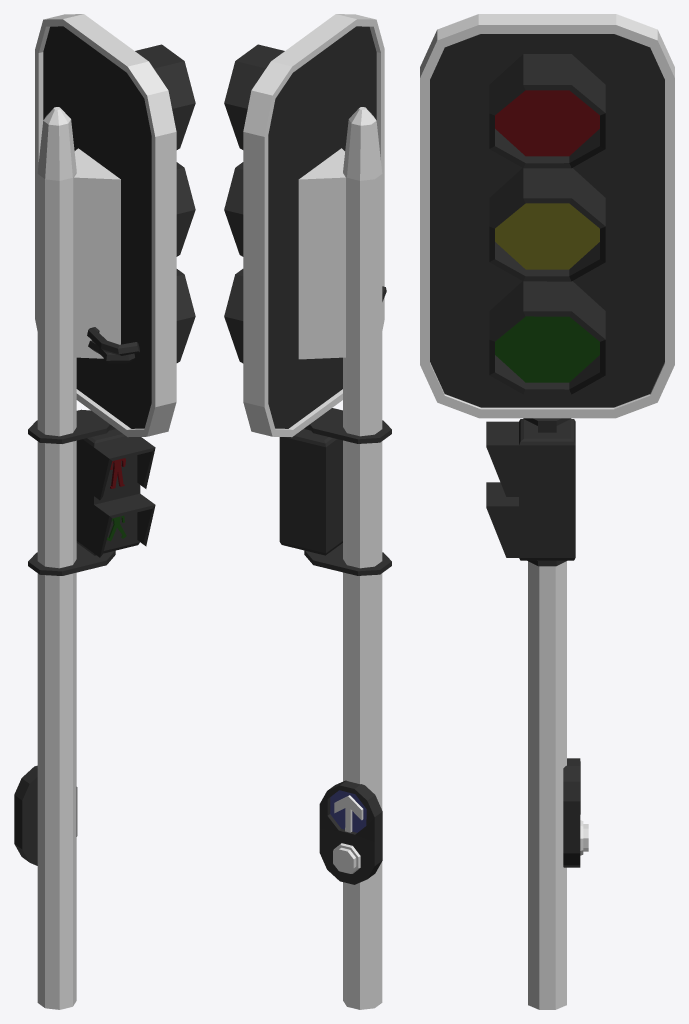
File: TrafficRight.fbx
3 views of the same model, side by side, from view 1: azimuth 30°, elevation 25°; view 2: azimuth 150°, elevation 25°; view 3: azimuth 270°, elevation 25° (orthographic). The views are drawn at different scales.
Parts seen in each view (by area): view 1: TrafficLightRight; view 2: TrafficLightRight; view 3: TrafficLightRight.
Boxes of the visible parts, x1,y1,x2,y2 form: TrafficLightRight: (14,14,195,1009); TrafficLightRight: (224,14,391,1009); TrafficLightRight: (420,14,674,1009).
Bounding box in the file's own units: 58.75 × 371 × 85.16.
